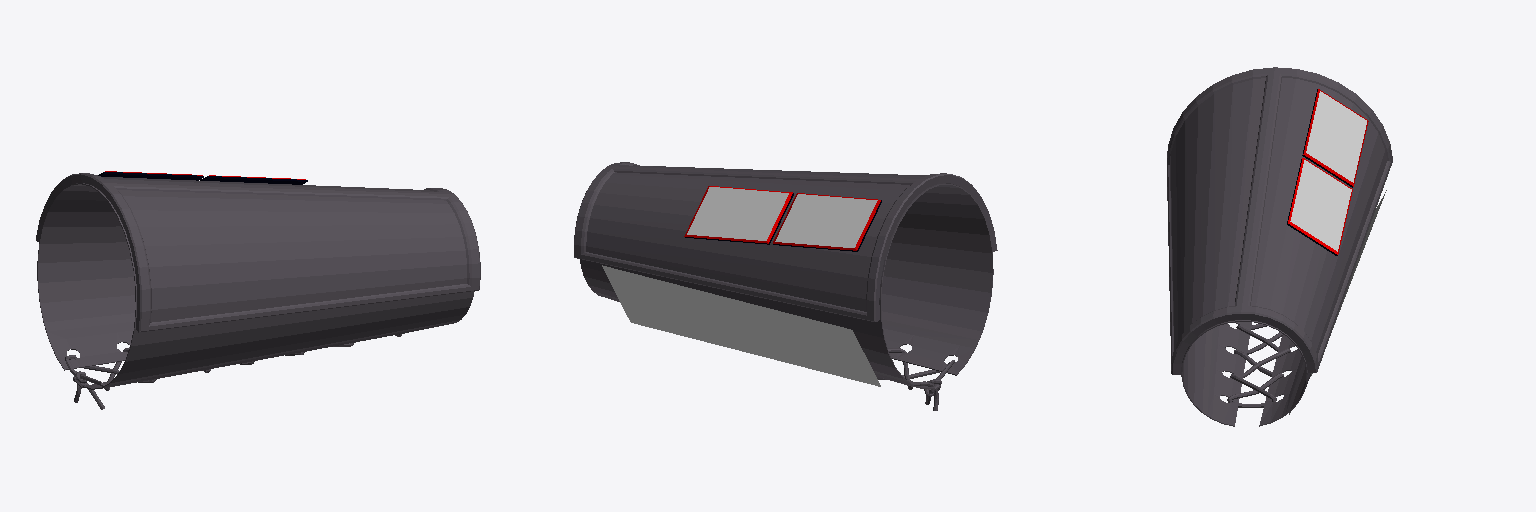
Rendered from bracer_lobby.obj.
The picture shows the model from 3 angles: view 1: azimuth 30°, elevation 25°; view 2: azimuth 150°, elevation 25°; view 3: azimuth 270°, elevation 25°; orthographic projection.
Parts seen in each view (by area): view 1: bracer_lobby; view 2: bracer_lobby; view 3: bracer_lobby.
Boxes of the visible parts, x1,y1,x2,y2 form: bracer_lobby: [36, 171, 480, 409]; bracer_lobby: [574, 162, 997, 410]; bracer_lobby: [1167, 67, 1392, 426].
Bounding box in the file's own units: 0.2103 × 0.1251 × 0.114.